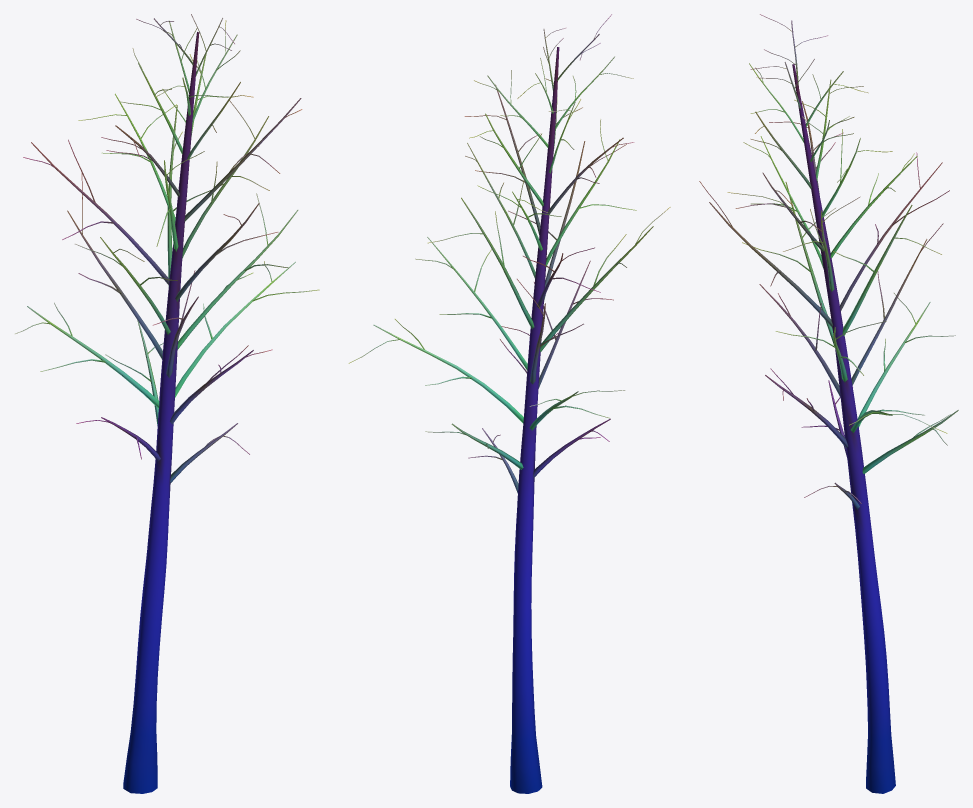
File: birch-grove-b.glb
3 views of the same model, side by side, from view 1: azimuth 30°, elevation 25°; view 2: azimuth 150°, elevation 25°; view 3: azimuth 270°, elevation 25° (orthographic). The views are drawn at different scales.
Visible parts, largest first — view 1: bark; view 2: bark; view 3: bark.
Part boxes in pixels (x1,y1,x2,y2): bark: (15,14,319,793); bark: (348,14,670,793); bark: (699,14,958,793).
Bounding box in the file's own units: 4.75 × 13.27 × 4.11.
